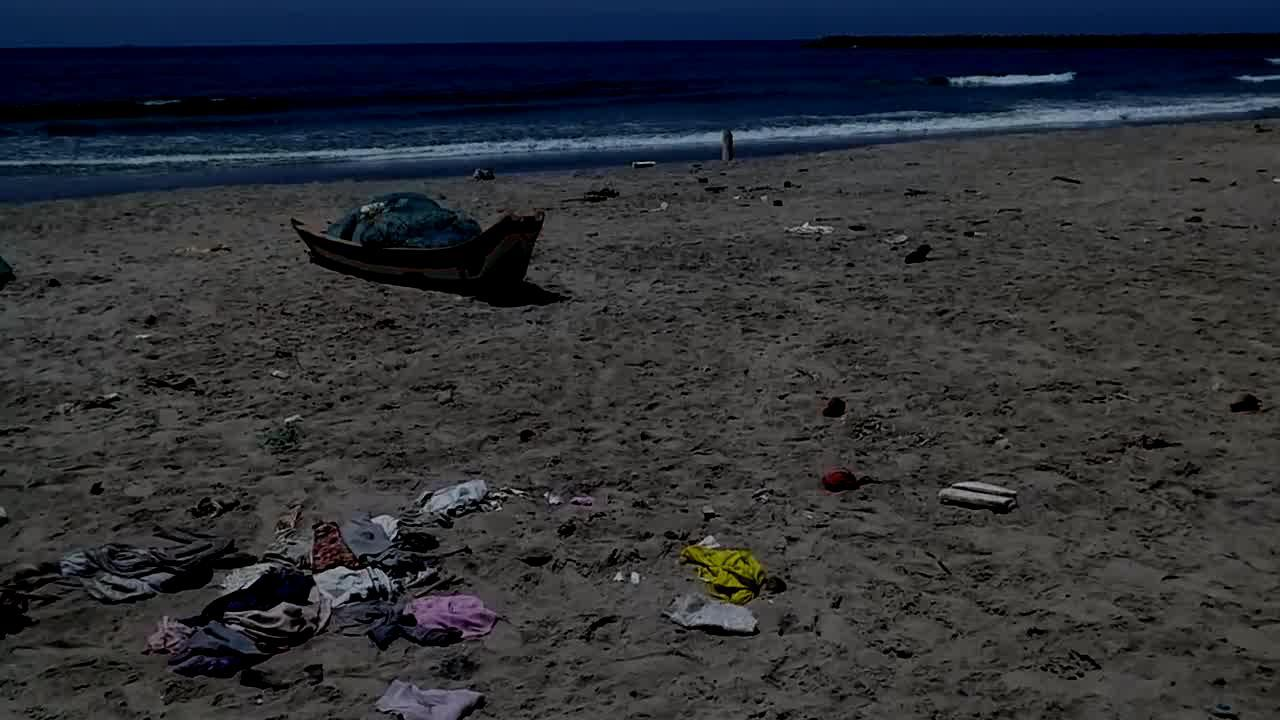large collection of objects: (289, 210, 546, 293)
obj: (146, 567, 338, 679), (267, 507, 441, 600), (70, 539, 263, 604), (323, 190, 484, 248), (686, 538, 766, 614), (334, 600, 456, 645), (401, 590, 500, 644), (1, 563, 63, 641), (402, 478, 486, 526), (939, 481, 1018, 514), (820, 467, 881, 495), (781, 221, 837, 238), (1228, 389, 1259, 412), (822, 398, 848, 418), (722, 129, 732, 163)
sand/background: (1, 0, 1279, 223)
